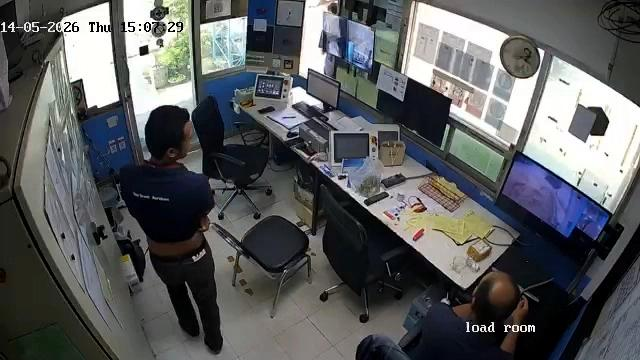Head: (144, 106, 194, 157), (474, 270, 520, 321)
People: (122, 105, 227, 353), (354, 271, 528, 360)
Phone: (257, 106, 276, 115)
